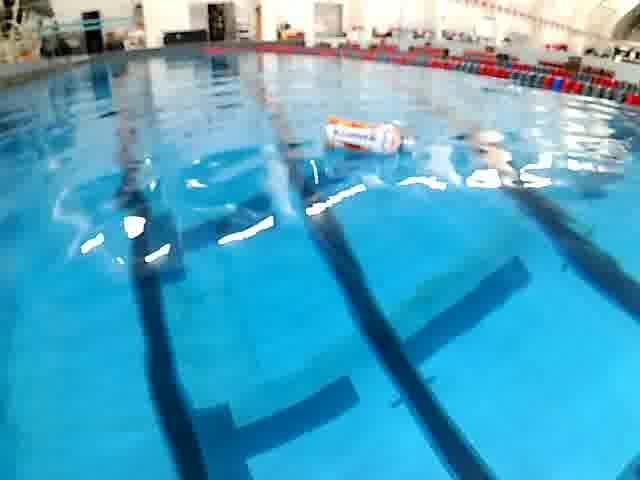Bottle: (309, 112, 425, 160)
